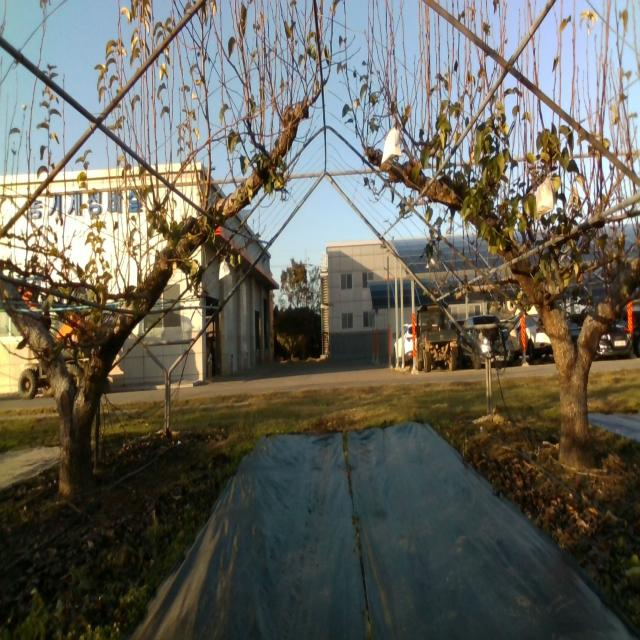pearbags: (536, 175, 557, 222), (381, 127, 402, 165), (425, 252, 439, 271), (219, 258, 230, 280)
